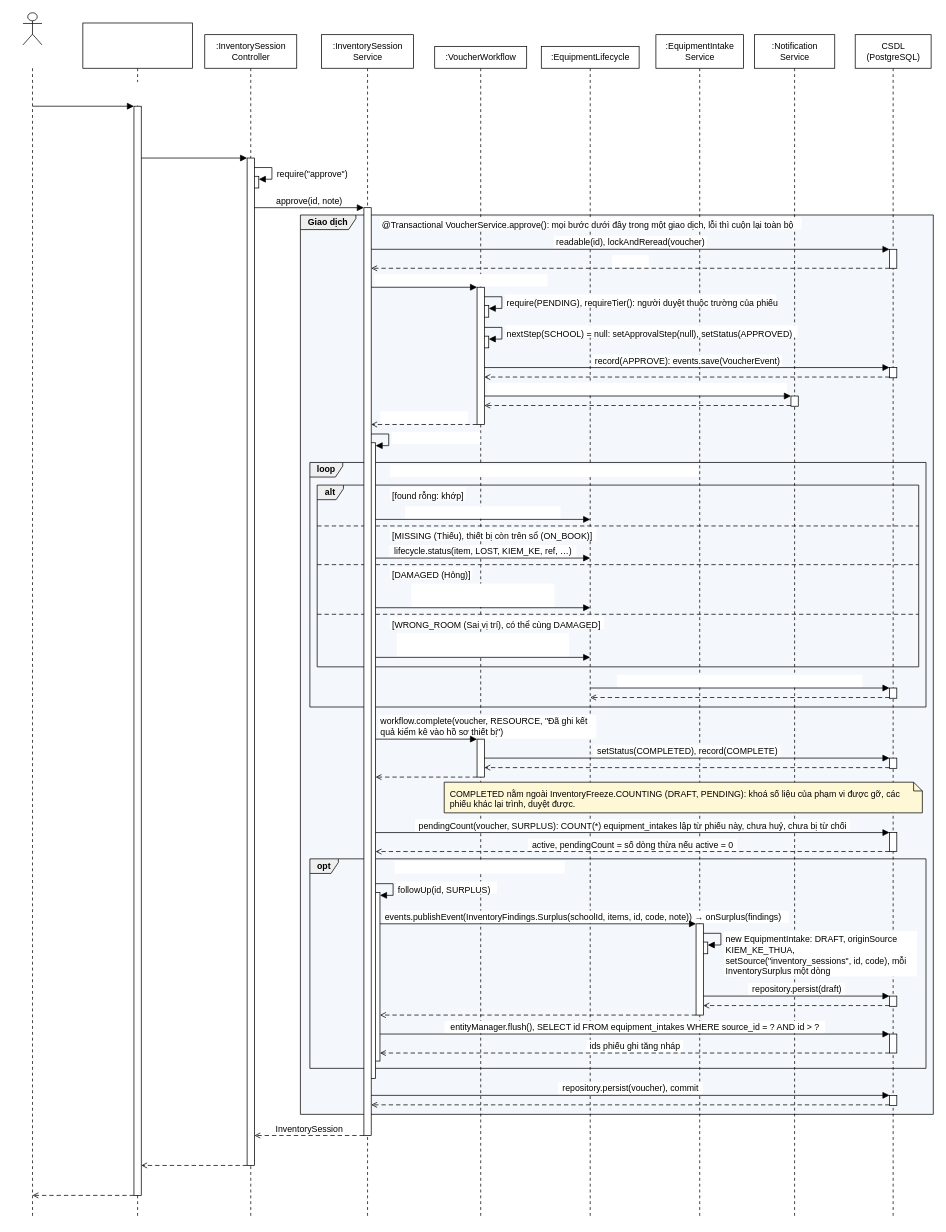
Some shapes in this 946 by 1232 pixel diagram are drawn without their labels. The shapes that lost their labels are listed below. From the top down, each one's centre as x and y in pixels, then its label:
At point (32, 28): "Lãnh đạo trường".
At point (137, 45): "«Giao diện» InventorySessionShow (VoucherActions)".
At point (128, 93): "Mở phiếu (Chờ tôi duyệt), bấm Duyệt biên bản, nhập ý kiến".
At point (193, 134): "POST /api/school/inventory_ sessions/{id}/approve {note}".
At point (460, 280): "workflow.approve(voucher, resource, note)".
At point (630, 261): "voucher".
At point (637, 389): "publishEvent(VoucherApproved) → notify(VOUCHER_RESULT, người trình)".
At point (424, 417): "true: bước duyệt cuối".
At point (435, 437): "onApproved(voucher)".
At point (544, 470): "[mỗi InventoryLine: found = line.discrepancies(), item = line.getEquipment()]".
At point (482, 512): "lifecycle.event(item, KIEM_KE, ref, …)".
At point (482, 595): "lifecycle.condition(item, HONG, …), lifecycle.status(item, BROKEN, …)".
At point (482, 644): "lifecycle.room(item, line.getFoundRoom(), KIEM_KE, ref, …)".
At point (739, 681): "history.change() / history.event(): INSERT equipment_history".
At point (479, 867): "[pendingCount > 0: phiếu có thiết bị thừa]".
At point (194, 1152): "200 Response (COMPLETED)".
At point (83, 1182): "Đã duyệt, có phiếu ghi tăng nháp".
